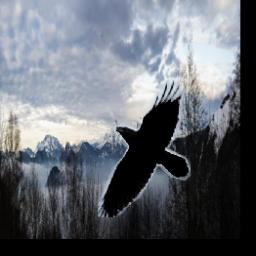Crow: (97, 77, 190, 217)
